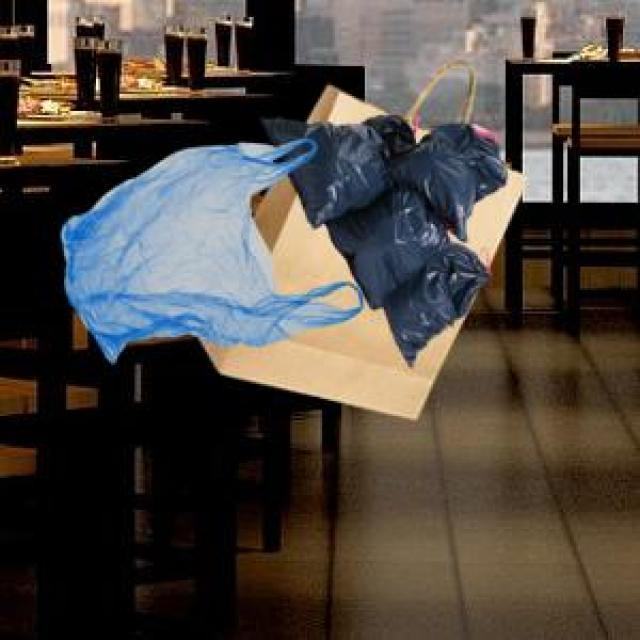miscellaneous trash: (258, 111, 504, 363)
paper: (194, 58, 523, 414)
